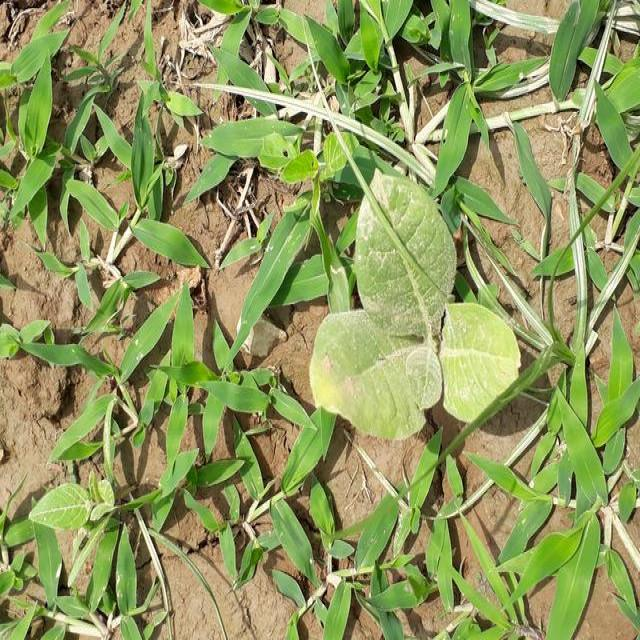crop: (306, 148, 526, 457)
